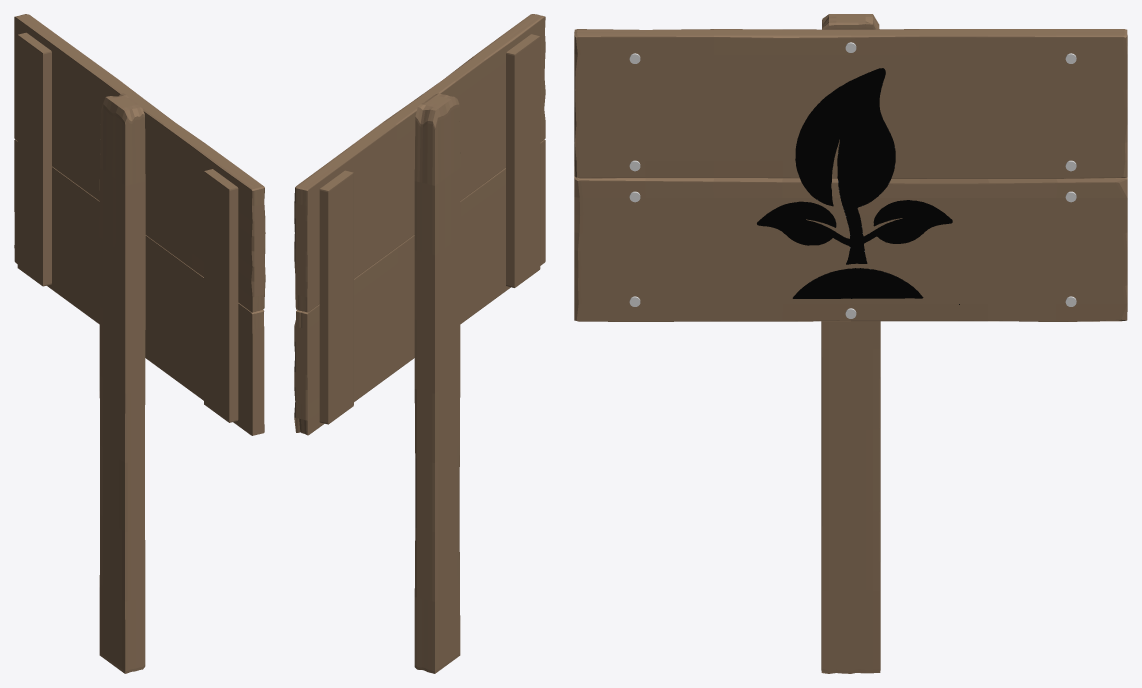
The model's file is signplnt.fbx.
3 renders of one model, left to right at view 1: azimuth 30°, elevation 25°; view 2: azimuth 150°, elevation 25°; view 3: azimuth 270°, elevation 25°, orthographic. The views are drawn at different scales.
Parts seen in each view (by area): view 1: Cube.001, Cube.002, Cube.003, Cube.004; view 2: Cube.001, Cube.002, Cube.003, Cube.004; view 3: Cube.001, Cube.002, plnt.
Boxes of the visible parts, x1,y1,x2,y2 form: Cube.001: [14, 14, 265, 435]; Cube.002: [99, 93, 145, 673]; Cube.003: [204, 169, 238, 422]; Cube.004: [17, 32, 51, 286]; Cube.001: [294, 14, 545, 435]; Cube.002: [414, 93, 460, 673]; Cube.003: [506, 34, 540, 287]; Cube.004: [319, 170, 353, 424]; Cube.001: [574, 29, 1127, 321]; Cube.002: [821, 14, 880, 673]; plnt: [757, 68, 959, 304].
Size of the model in its own units: 43.66 by 599 by 462.
